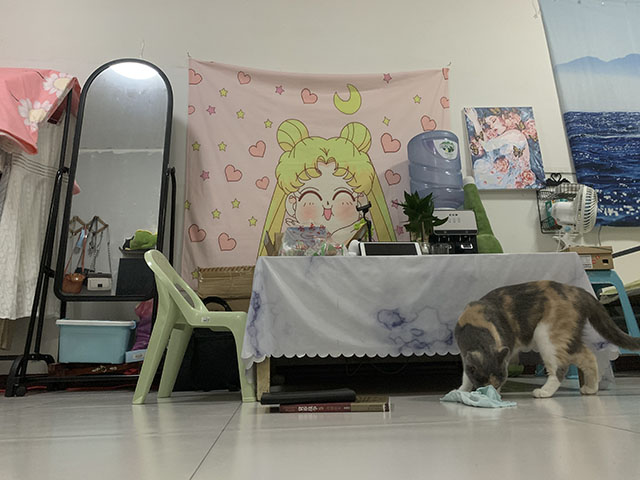book: (259, 387, 393, 415)
stool: (130, 249, 257, 405)
table: (240, 251, 625, 404)
